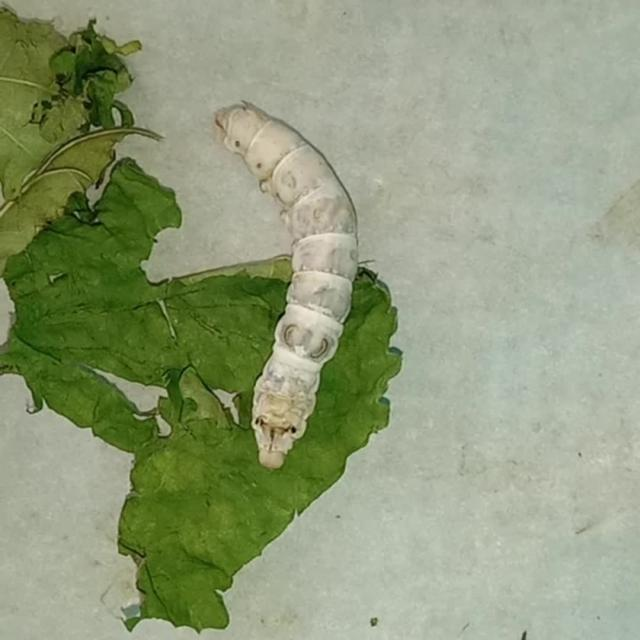Grasserie: (192, 83, 408, 489)
